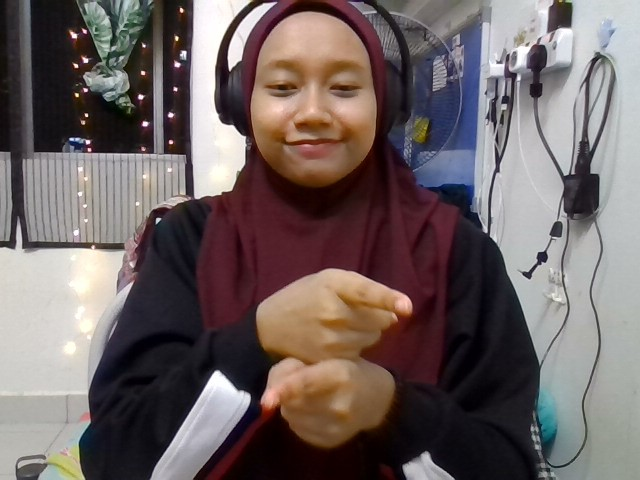Betul: (257, 267, 416, 448)
